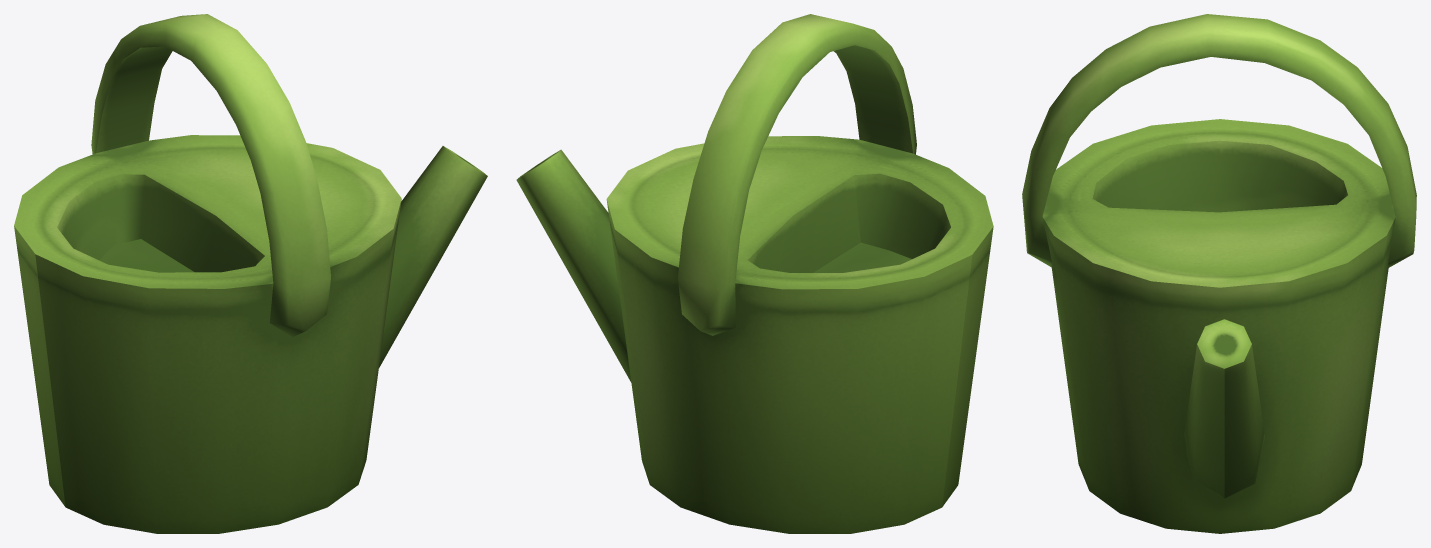
File: S_GardenThing_05.fbx
3 views of the same model, side by side, from view 1: azimuth 30°, elevation 25°; view 2: azimuth 150°, elevation 25°; view 3: azimuth 270°, elevation 25° (orthographic).
Visible parts, largest first — view 1: S_GardenThing_05; view 2: S_GardenThing_05; view 3: S_GardenThing_05.
Boxes of the visible parts, bbox=[...] form: S_GardenThing_05: bbox=[14, 14, 487, 533]; S_GardenThing_05: bbox=[516, 14, 993, 533]; S_GardenThing_05: bbox=[1022, 14, 1416, 533].
Bounding box in the file's own units: 66.8 × 62.51 × 50.63.
